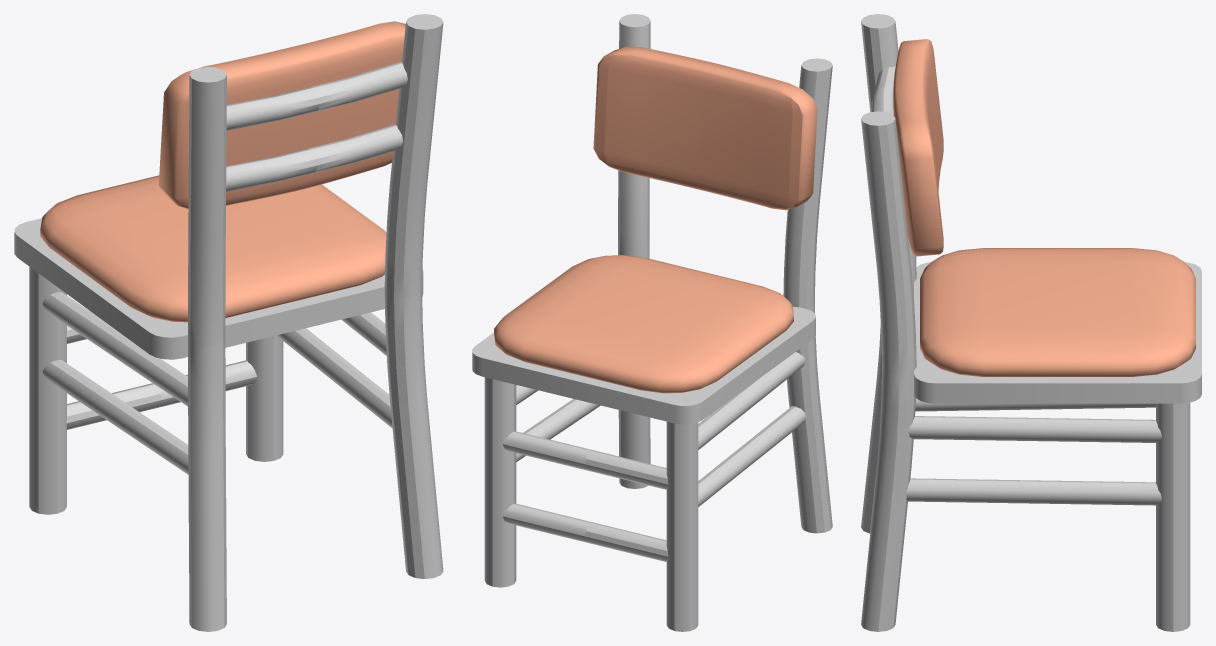
The model's file is chairfix.fbx.
3 views of the same model, side by side, from view 1: azimuth 30°, elevation 25°; view 2: azimuth 150°, elevation 25°; view 3: azimuth 270°, elevation 25° (orthographic). The views are drawn at different scales.
Parts seen in each view (by area): view 1: Cylinder.004; view 2: Cylinder.004; view 3: Cylinder.004.
Part boxes in pixels (<box>): Cylinder.004: <box>14,14,443,631</box>; Cylinder.004: <box>472,14,832,631</box>; Cylinder.004: <box>861,14,1201,631</box>.
Size of the model in its own units: 200 by 388 by 237.
